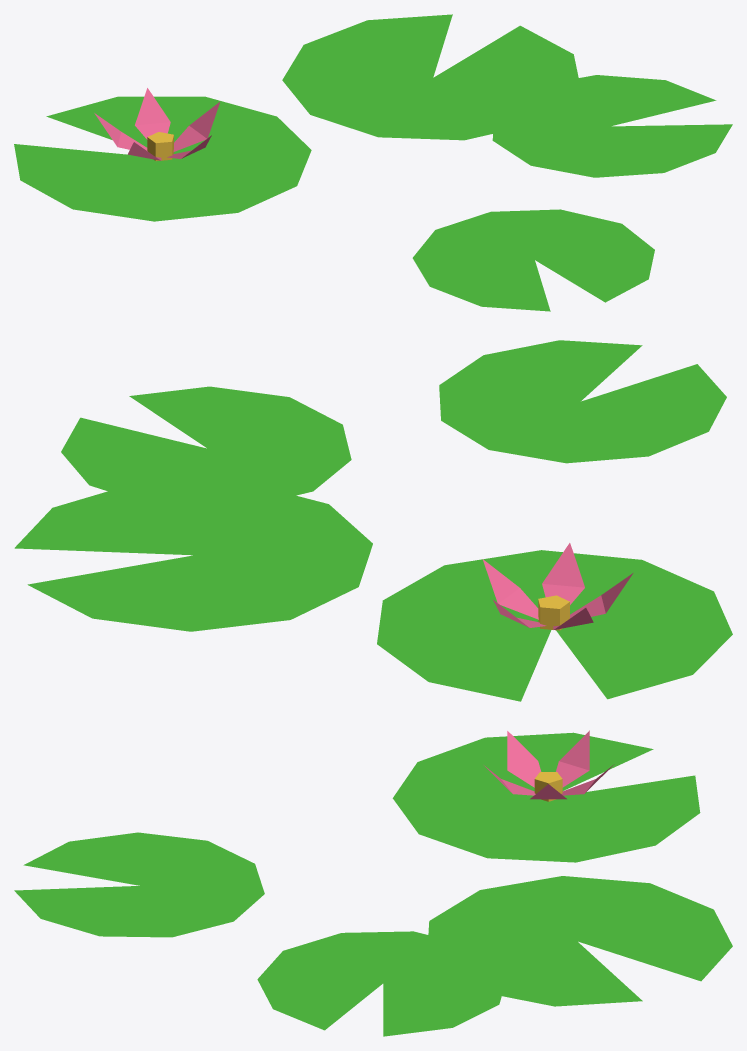
File: aq_lily_pads.fbx
The picture shows the model from 3 angles, top to bottom: view 1: azimuth 30°, elevation 25°; view 2: azimuth 150°, elevation 25°; view 3: azimuth 270°, elevation 25°; orthographic projection. The views are drawn at different scales.
Parts seen in each view (by area): view 1: aq_lily_pads; view 2: aq_lily_pads; view 3: aq_lily_pads.
Part boxes in pixels (left/top/right/bottom): aq_lily_pads: left=14, top=14, right=732, bottom=311; aq_lily_pads: left=14, top=340, right=732, bottom=701; aq_lily_pads: left=14, top=730, right=732, bottom=1036.
Bounding box in the file's own units: 1.5 × 0.1 × 1.5.
